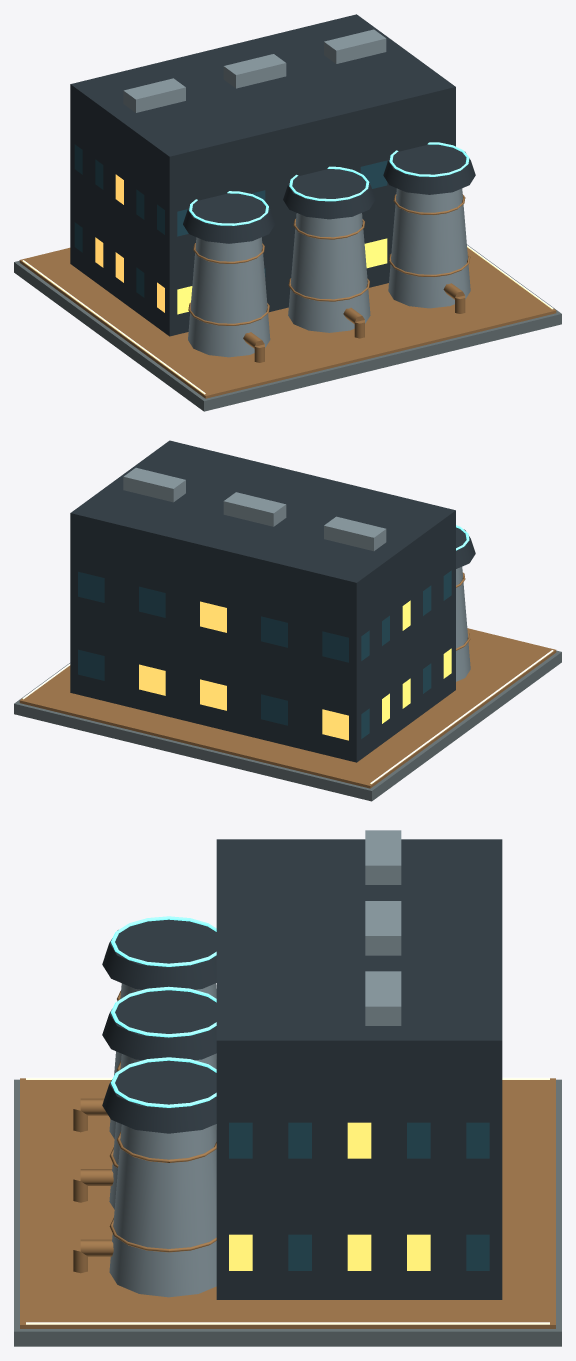
The model's file is compute-foundry.lod2.glb.
3 renders of one model, top to bottom at view 1: azimuth 30°, elevation 25°; view 2: azimuth 150°, elevation 25°; view 3: azimuth 270°, elevation 25°, orthographic. The views are drawn at different scales.
Parts seen in each view (by area): view 1: structure; view 2: structure; view 3: structure.
Part boxes in pixels (x1,y1,x2,y2): structure: (14,14,561,411); structure: (14,440,561,801); structure: (14,830,561,1346).
Size of the model in its own units: 25 by 14 by 23.
